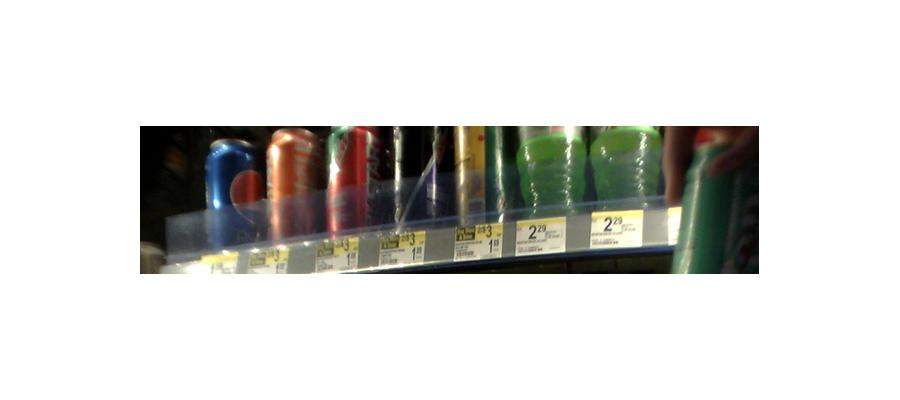bottle: (677, 127, 753, 271), (517, 119, 589, 217), (203, 134, 264, 249), (267, 122, 321, 243), (325, 123, 380, 232), (455, 124, 511, 227), (592, 122, 658, 206), (403, 125, 449, 224)
